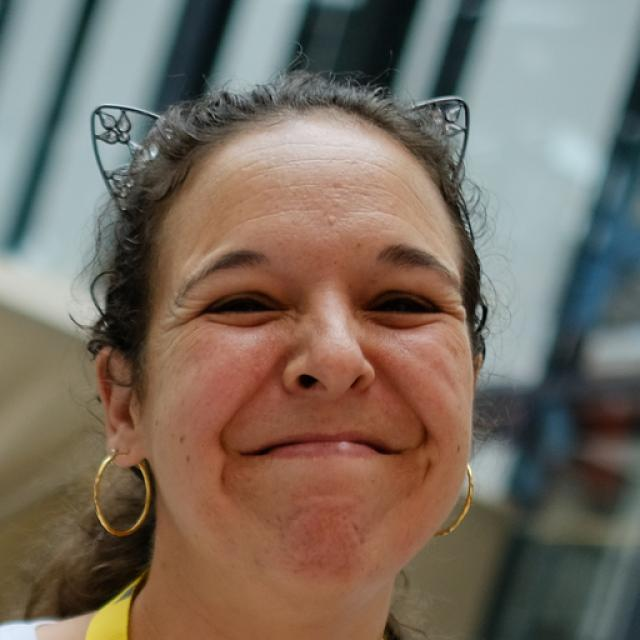Acne: (322, 213, 341, 234)
